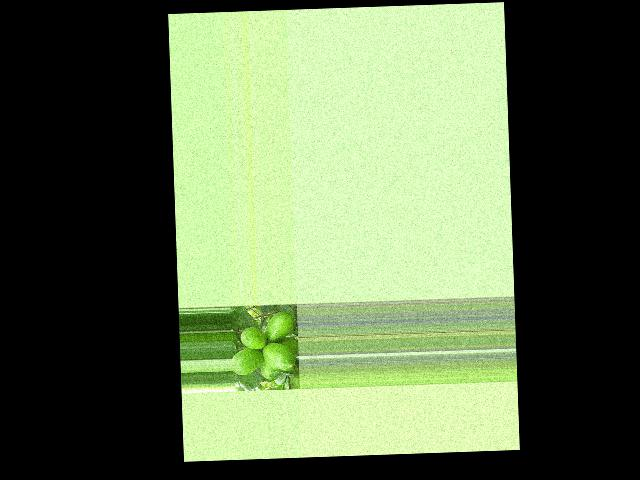lemon: (263, 310, 294, 344)
